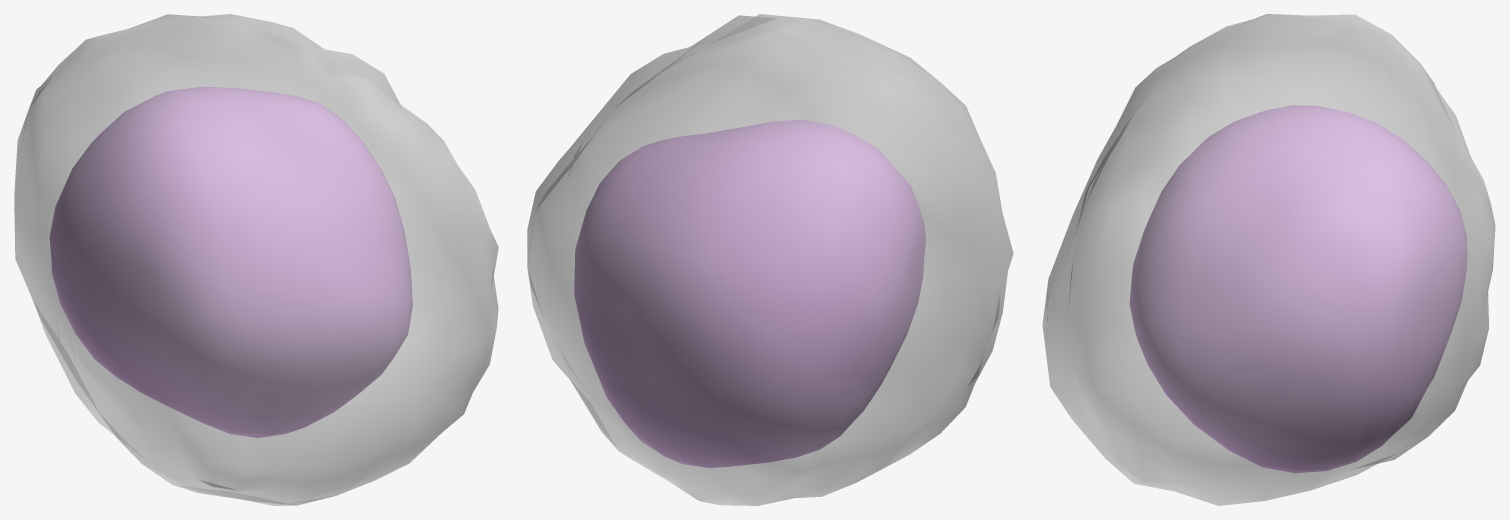
Rendered from immune_cell_lymphocyyte.fbx.
3 views of the same model, side by side, from view 1: azimuth 30°, elevation 25°; view 2: azimuth 150°, elevation 25°; view 3: azimuth 270°, elevation 25° (orthographic). The views are drawn at different scales.
Visible parts, largest first — view 1: lymphocytes; view 2: lymphocytes; view 3: lymphocytes.
Boxes of the visible parts, x1,y1,x2,y2 form: lymphocytes: [14, 14, 498, 505]; lymphocytes: [527, 14, 1013, 505]; lymphocytes: [1042, 14, 1495, 505].
Size of the model in its own units: 1133 by 1213 by 1170.
